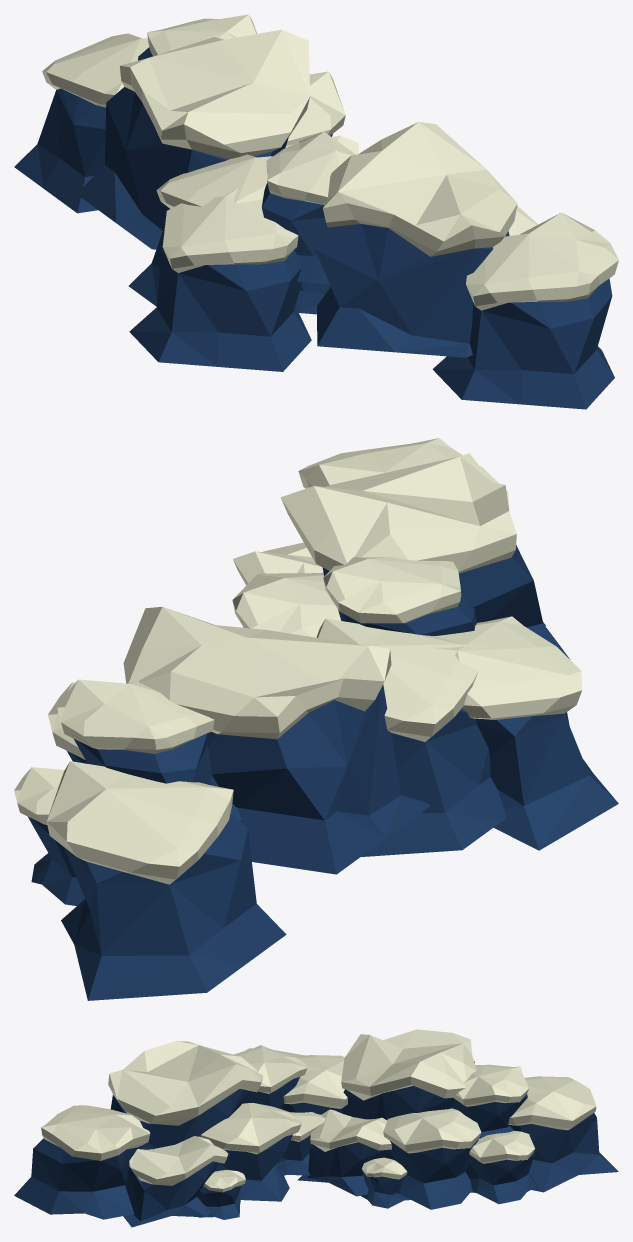
File: SnowRocks.fbx
3 views of the same model, one above another, from view 1: azimuth 30°, elevation 25°; view 2: azimuth 150°, elevation 25°; view 3: azimuth 270°, elevation 25° (orthographic). The views are drawn at different scales.
Visible parts, largest first — view 1: SnowRock8, SnowRock3, SnowRock7, SnowRock5, SnowRock2, SnowRock; view 2: SnowRock8, SnowRock3, SnowRock7, SnowRock5, SnowRock2, SnowRock1, SnowRock; view 3: SnowRock8, SnowRock3, SnowRock7, SnowRock, SnowRock4, SnowRock1, SnowRock2, SnowRock5, SnowRock6.
Boxes of the visible parts, x1,y1,x2,y2 form: SnowRock8: [129, 122, 618, 409]; SnowRock3: [77, 29, 309, 249]; SnowRock7: [14, 33, 149, 213]; SnowRock5: [128, 154, 272, 306]; SnowRock2: [138, 14, 256, 60]; SnowRock: [287, 71, 345, 143]; SnowRock8: [232, 438, 618, 850]; SnowRock3: [123, 606, 430, 874]; SnowRock7: [46, 761, 286, 1000]; SnowRock5: [316, 618, 505, 856]; SnowRock2: [57, 679, 241, 820]; SnowRock1: [14, 767, 85, 905]; SnowRock: [48, 682, 87, 763]; SnowRock8: [14, 1041, 325, 1227]; SnowRock3: [341, 1029, 476, 1120]; SnowRock7: [508, 1076, 618, 1192]; SnowRock: [383, 1108, 481, 1209]; SnowRock4: [297, 1109, 391, 1196]; SnowRock1: [465, 1130, 536, 1204]; SnowRock2: [452, 1064, 528, 1138]; SnowRock5: [280, 1055, 347, 1114]; SnowRock6: [360, 1157, 410, 1208].
Size of the model in its own units: 51.56 by 27.19 by 108.
